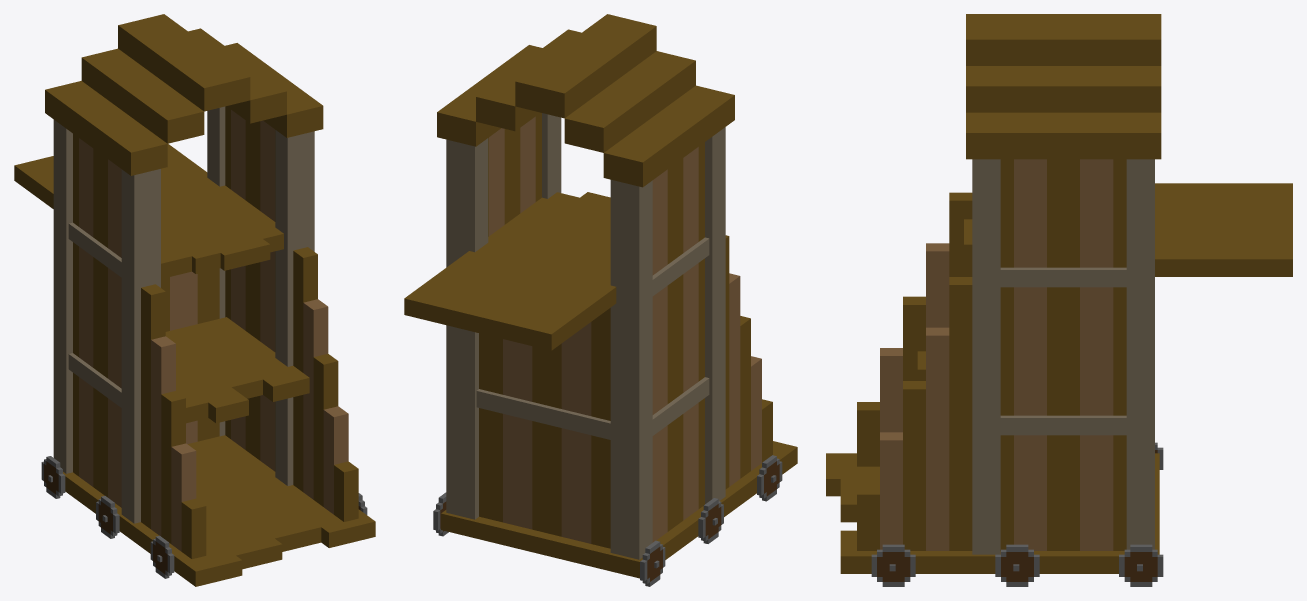
Rendered from Siege Tower.fbx.
3 renders of one model, left to right at view 1: azimuth 30°, elevation 25°; view 2: azimuth 150°, elevation 25°; view 3: azimuth 270°, elevation 25°, orthographic. The views are drawn at different scales.
Visible parts, largest first — view 1: Siege Tower; view 2: Siege Tower; view 3: Siege Tower.
Boxes of the visible parts, left/top/right/bottom form: Siege Tower: left=14, top=14, right=375, bottom=586; Siege Tower: left=404, top=14, right=797, bottom=586; Siege Tower: left=826, top=14, right=1292, bottom=586.
Size of the model in its own units: 906 by 1911 by 1599.
